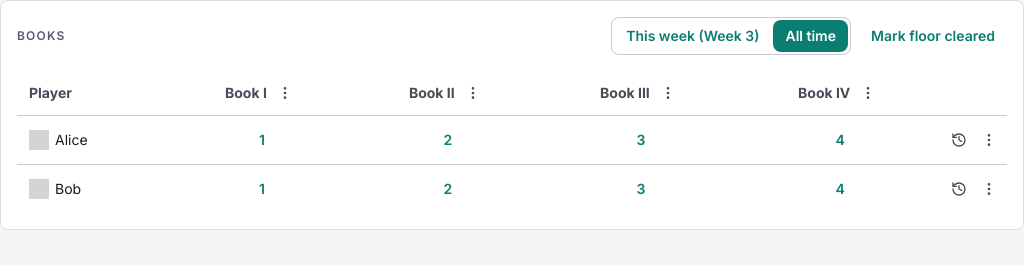
Scenario: BookLedgerCard — column + row kebabs (D7b, R-16 4/4) › right-clicking Alice's row opens the SAME single item the kebab click does
Right-click the row with id "book-row-p1": [512, 140] box [17,116,1007,164]
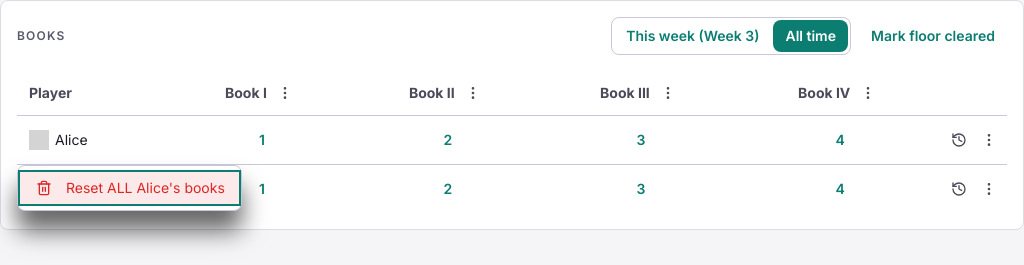
Now the number of menu items is 1, box [18,170,241,206]
